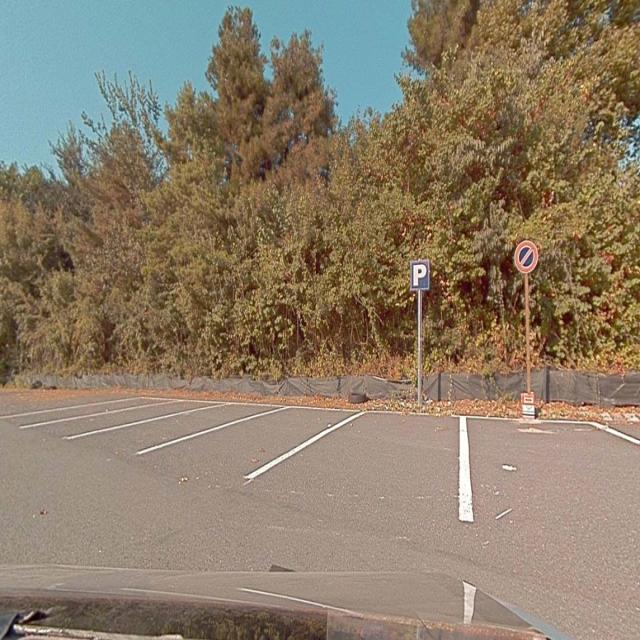park: (411, 262, 429, 290)
parkyasak: (514, 240, 538, 273)
